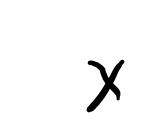mult: (87, 59, 124, 112)
